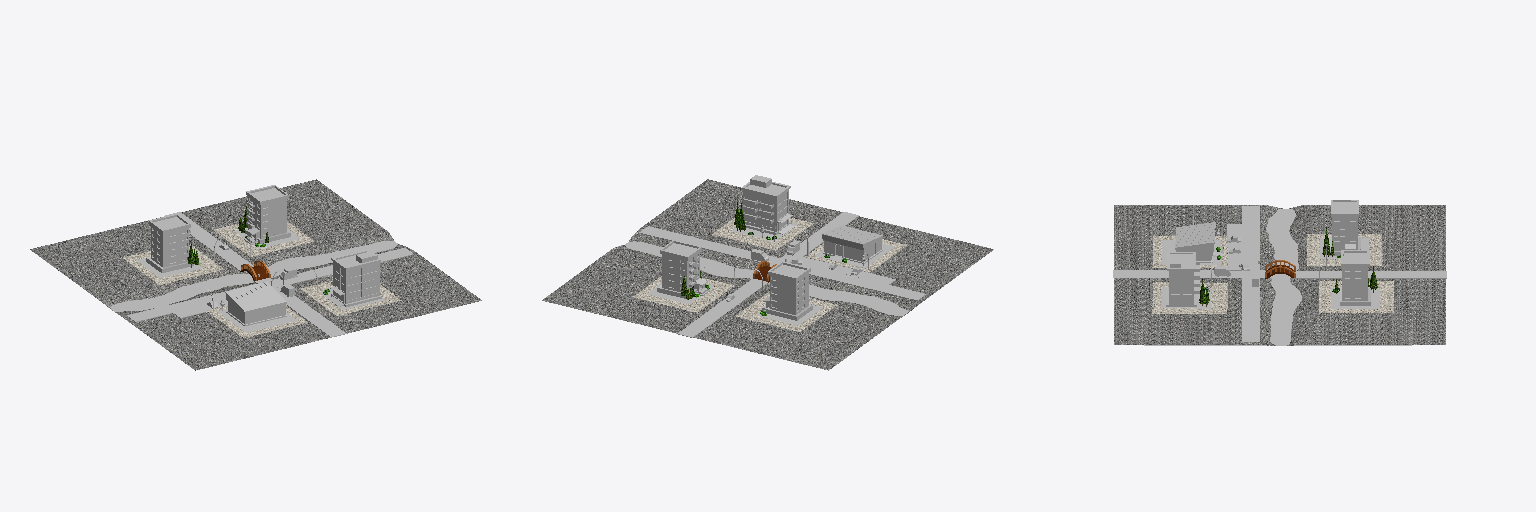
3 views of the same model, side by side, from view 1: azimuth 30°, elevation 25°; view 2: azimuth 150°, elevation 25°; view 3: azimuth 270°, elevation 25° (orthographic).
Parts seen in each view (by area): view 1: terrain_concrete.001, terrain_concrete, building2, ROAD.404, ROAD.004, building1, building1.002, Plane.002, building1.003, Plane.004, Plane.010, ROAD.005 (+3 smaller); view 2: terrain_concrete.001, building2, ROAD.004, terrain_concrete, ROAD.404, building1.002, building1, ROAD.001, Plane.002, Plane.010, Plane.004, building1.001 (+4 smaller); view 3: terrain_concrete.001, terrain_concrete, ROAD.004, building2, ROAD.404, Plane.010, Plane.002, Plane.004, building1, ROAD.001, building1.002, ROAD.005 (+4 smaller).
Part boxes in pixels (x1,y1,x2,y2): terrain_concrete.001: (30, 179, 481, 370); terrain_concrete: (51, 241, 397, 311); building2: (328, 250, 381, 306); ROAD.404: (225, 281, 286, 325); ROAD.004: (127, 248, 413, 321); building1: (244, 186, 290, 244); building1.002: (146, 214, 193, 270); Plane.002: (214, 221, 314, 256); building1.003: (147, 215, 190, 272); Plane.004: (123, 246, 223, 284); Plane.010: (300, 281, 401, 315); ROAD.005: (253, 278, 346, 337); terrain_concrete.001: (542, 179, 993, 370); building2: (741, 175, 794, 234); ROAD.004: (639, 226, 925, 300); terrain_concrete: (625, 241, 908, 358); ROAD.404: (822, 225, 882, 263); building1.002: (760, 261, 810, 320); building1: (657, 240, 709, 298); ROAD.001: (678, 279, 767, 337); Plane.002: (633, 276, 733, 312); Plane.010: (712, 218, 813, 250); Plane.004: (736, 291, 836, 331); building1.001: (657, 241, 709, 298); terrain_concrete.001: (1114, 205, 1445, 345); terrain_concrete: (1144, 209, 1411, 345); ROAD.004: (1242, 206, 1259, 341); building2: (1166, 252, 1199, 306); ROAD.404: (1175, 222, 1222, 262); Plane.010: (1152, 282, 1227, 313); Plane.002: (1319, 281, 1393, 312); Plane.004: (1307, 234, 1381, 265); building1: (1340, 250, 1370, 305); ROAD.001: (1293, 271, 1446, 278); building1.002: (1329, 200, 1360, 255); ROAD.005: (1113, 270, 1270, 277).
Size of the model in its own units: 561 by 91.88 by 564.
18 materials, 6 textured.